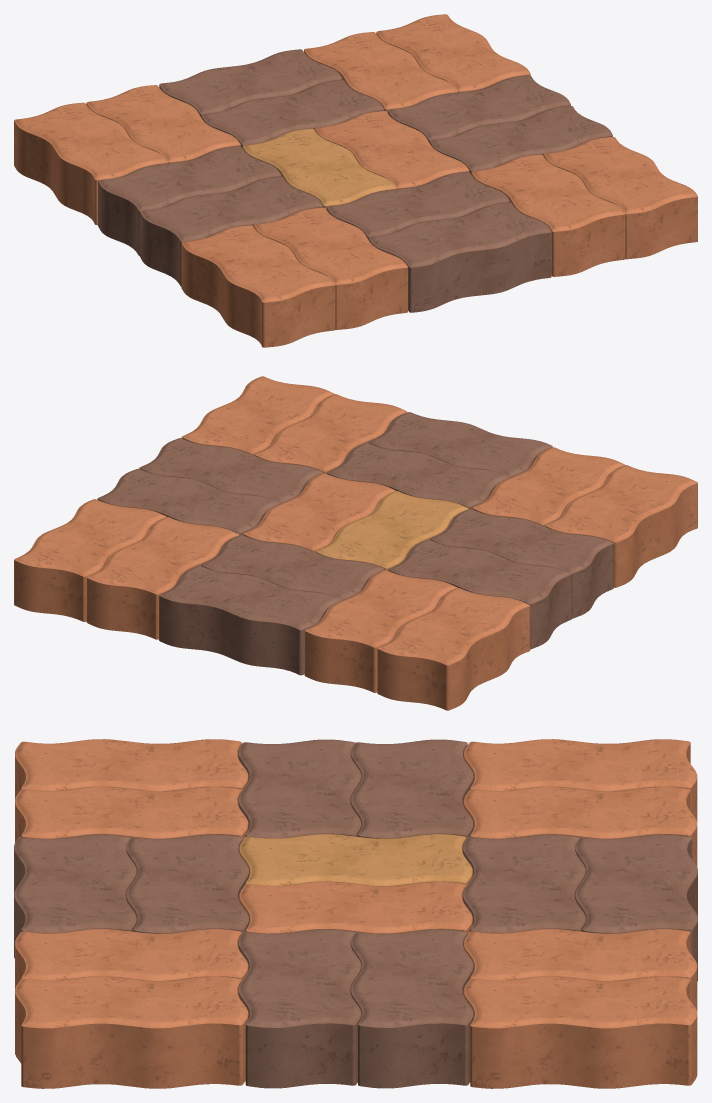
Rendered from basket-weave.glb.
3 renders of one model, top to bottom at view 1: azimuth 30°, elevation 25°; view 2: azimuth 150°, elevation 25°; view 3: azimuth 270°, elevation 25°, orthographic. The views are drawn at different scales.
Parts seen in each view (by area): view 1: Tropical Wave.007, Tropical Wave.002, Tropical Wave.011, Tropical Wave.015, Tropical Wave.014, Tropical Wave.006, Tropical Wave.004, Tropical Wave.005, Tropical Wave.012, Tropical Wave.008, Tropical Wave.001, Tropical Wave.017 (+6 smaller); view 2: Tropical Wave.011, Tropical Wave.009, Tropical Wave.007, Tropical Wave.010, Tropical Wave.017, Tropical Wave.016, Tropical Wave.005, Tropical Wave.004, Tropical Wave.003, Tropical Wave.013, Tropical Wave.015, Tropical Wave.001 (+6 smaller); view 3: Tropical Wave.014, Tropical Wave.016, Tropical Wave.013, Tropical Wave.012, Tropical Wave.009, Tropical Wave.002, Tropical Wave.010, Tropical Wave.006, Tropical Wave.011, Tropical Wave.017, Tropical Wave.007, Tropical Wave.015 (+6 smaller).
Part boxes in pixels (x1,y1,x2,y2): Tropical Wave.007: (181,225,335,347); Tropical Wave.002: (368,202,551,312); Tropical Wave.011: (14,102,167,225); Tropical Wave.015: (471,154,625,276); Tropical Wave.014: (543,136,697,259); Tropical Wave.006: (254,207,407,329); Tropical Wave.004: (140,176,322,286); Tropical Wave.005: (98,146,280,255); Tropical Wave.012: (430,106,612,174); Tropical Wave.008: (201,80,384,148); Tropical Wave.001: (242,128,396,209); Tropical Wave.017: (304,32,457,112); Tropical Wave.011: (377,587,530,710); Tropical Wave.009: (159,565,342,675); Tropical Wave.007: (545,465,697,587); Tropical Wave.010: (304,570,457,692); Tropical Wave.017: (86,517,239,639); Tropical Wave.016: (14,499,166,621); Tropical Wave.005: (388,539,571,649); Tropical Wave.004: (430,509,613,618); Tropical Wave.003: (326,442,510,508); Tropical Wave.013: (97,468,281,534); Tropical Wave.015: (254,394,407,473); Tropical Wave.001: (316,491,468,570); Tropical Wave.014: (15,976,248,1088); Tropical Wave.016: (463,976,697,1088); Tropical Wave.013: (350,929,473,1088); Tropical Wave.012: (238,929,361,1088); Tropical Wave.009: (575,834,697,981); Tropical Wave.002: (14,834,136,958); Tropical Wave.010: (463,786,697,866); Tropical Wave.006: (15,786,248,842); Tropical Wave.011: (463,739,697,821); Tropical Wave.017: (463,929,697,1011); Tropical Wave.007: (15,739,248,798); Tropical Wave.015: (15,929,248,987).
Size of the model in its own units: 0.743 by 0.0762 by 0.743.
3 materials, 3 textured.
